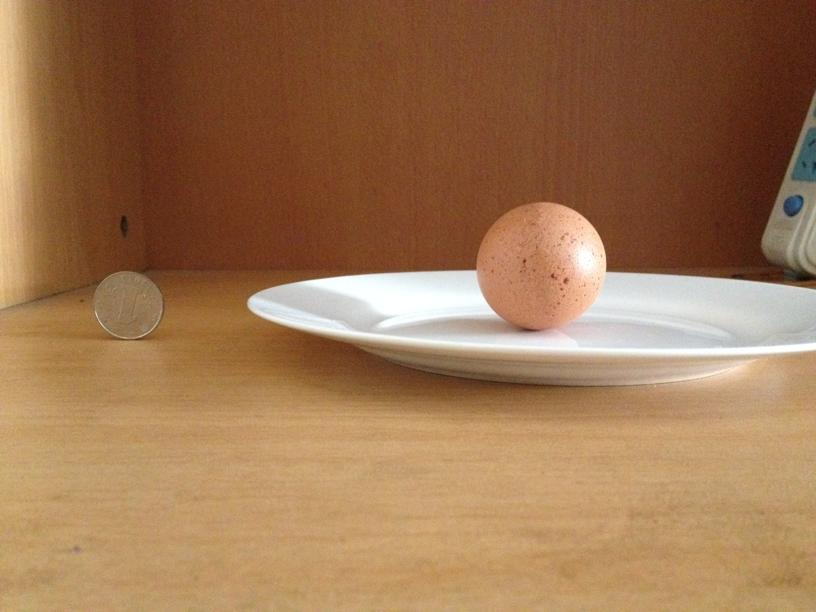coin: (88, 267, 165, 339)
egg: (472, 203, 606, 329)
